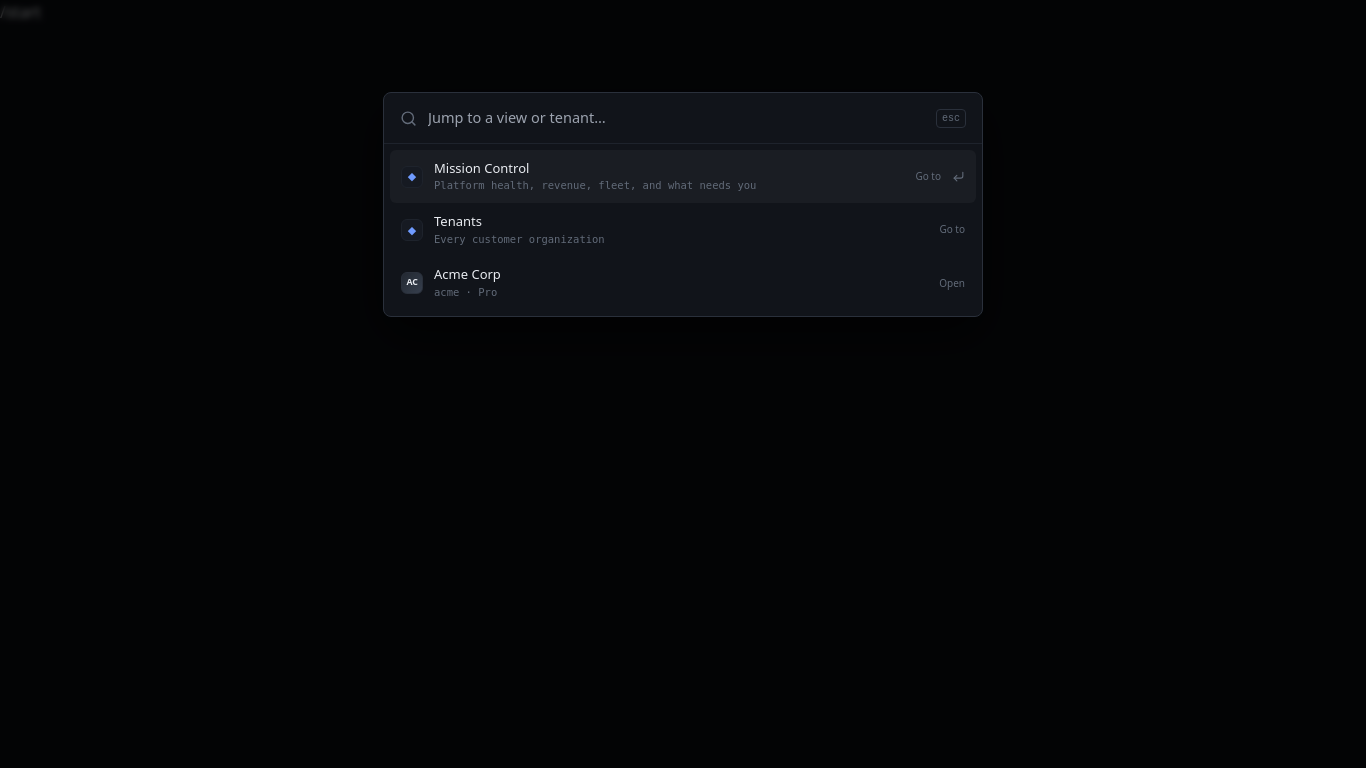
Test: command palette › opens the chosen tenant by id
Click the button "AC Acme Corp acme · Pro Open" at (467, 274), box [390, 256, 976, 310]
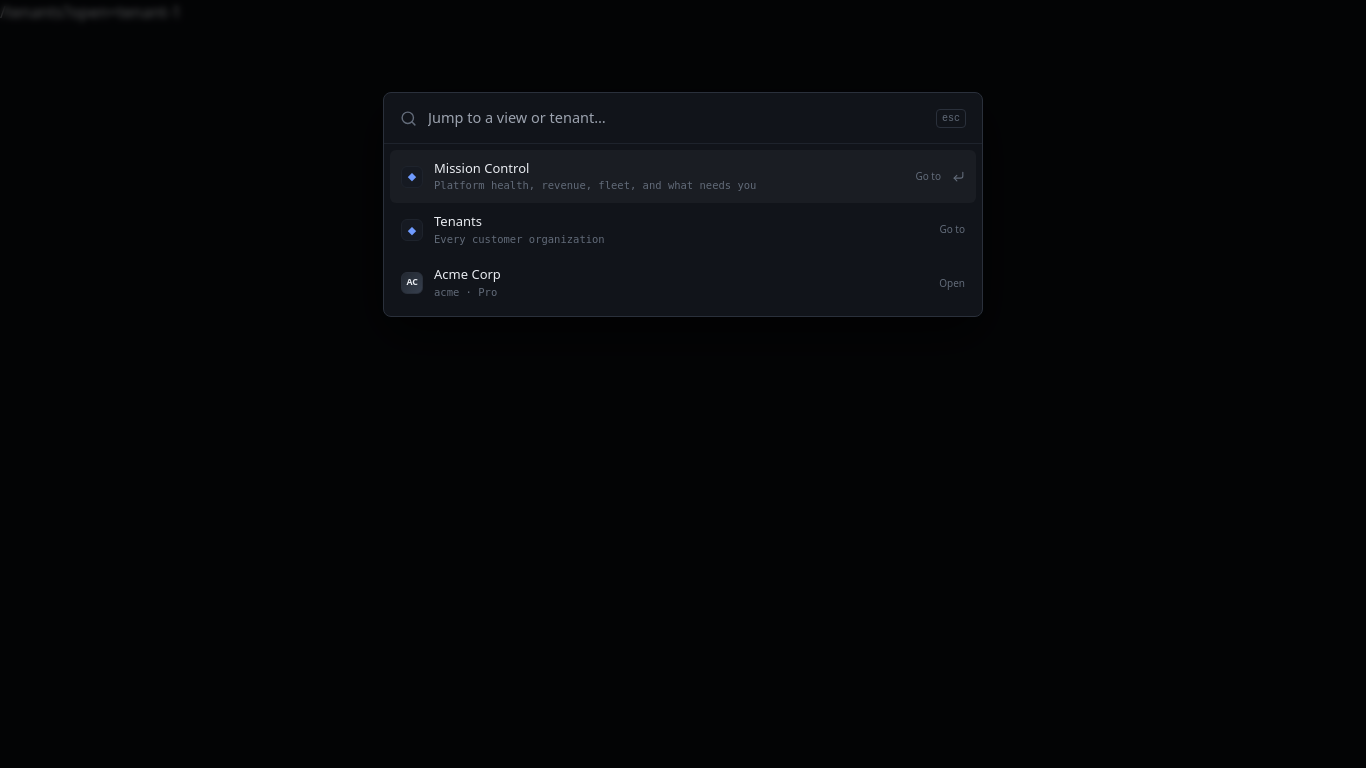
Expected: the text with test id "where" reads "/tenants?open=tenant-1", [0, 1, 181, 23]
